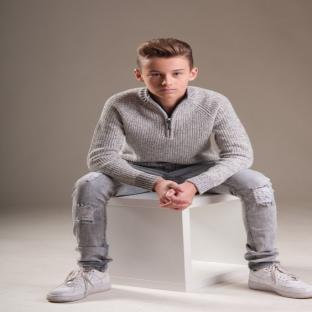Human: (47, 38, 311, 301)
